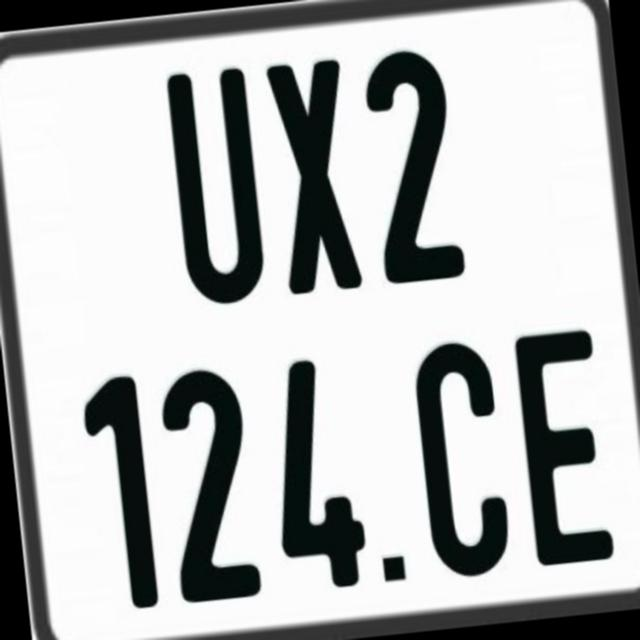1: (76, 373, 156, 612)
2: (360, 43, 470, 290), (158, 364, 264, 608)
4: (262, 356, 372, 596)
C: (407, 338, 512, 584)
E: (513, 328, 620, 576)
U: (161, 67, 272, 315)
X: (265, 57, 365, 300)
